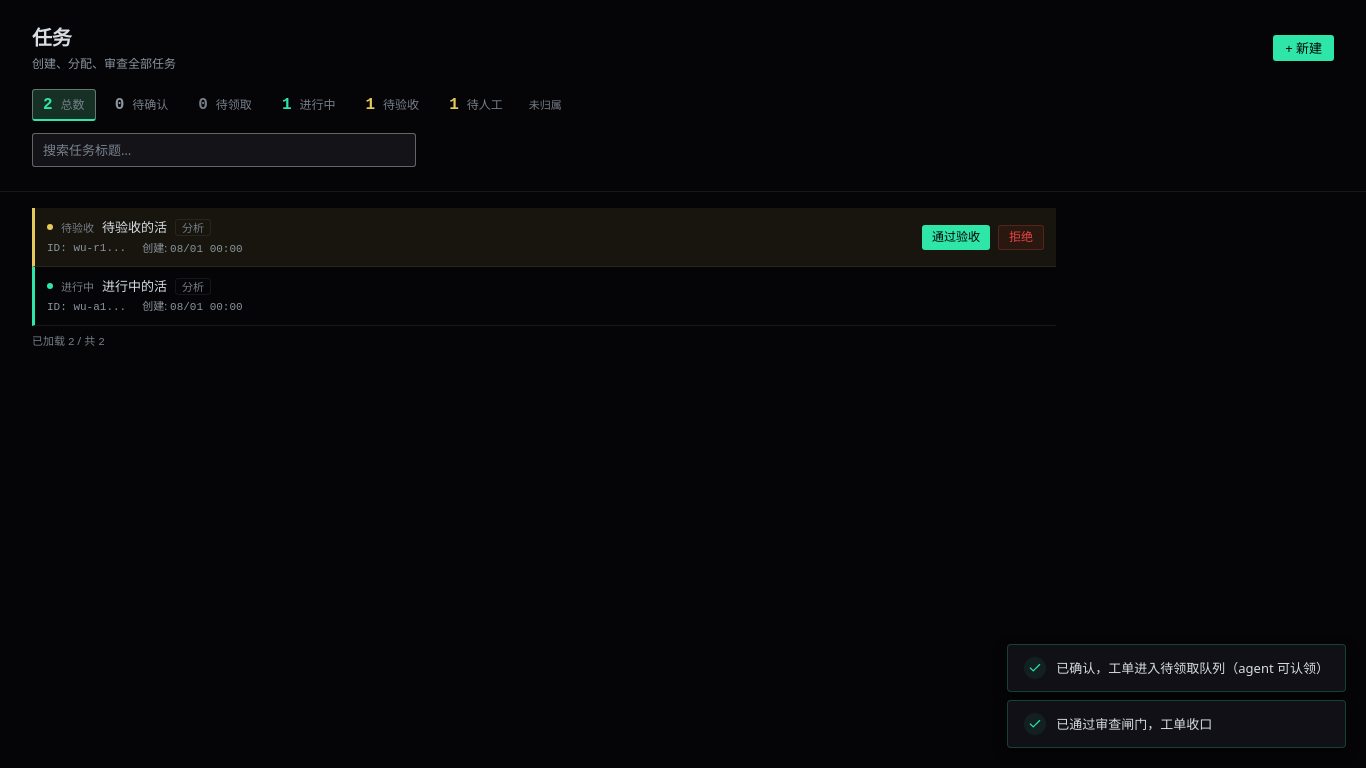
Scenario: WorkUnitListPage — 统计 chip 筛选（Step 2） › 「待人工」chip → 客户端过滤只剩 needsHuman 行；再点恢复全量
Step 1. Click the button "1 待人工" → (476, 105), box [438,89,514,121]
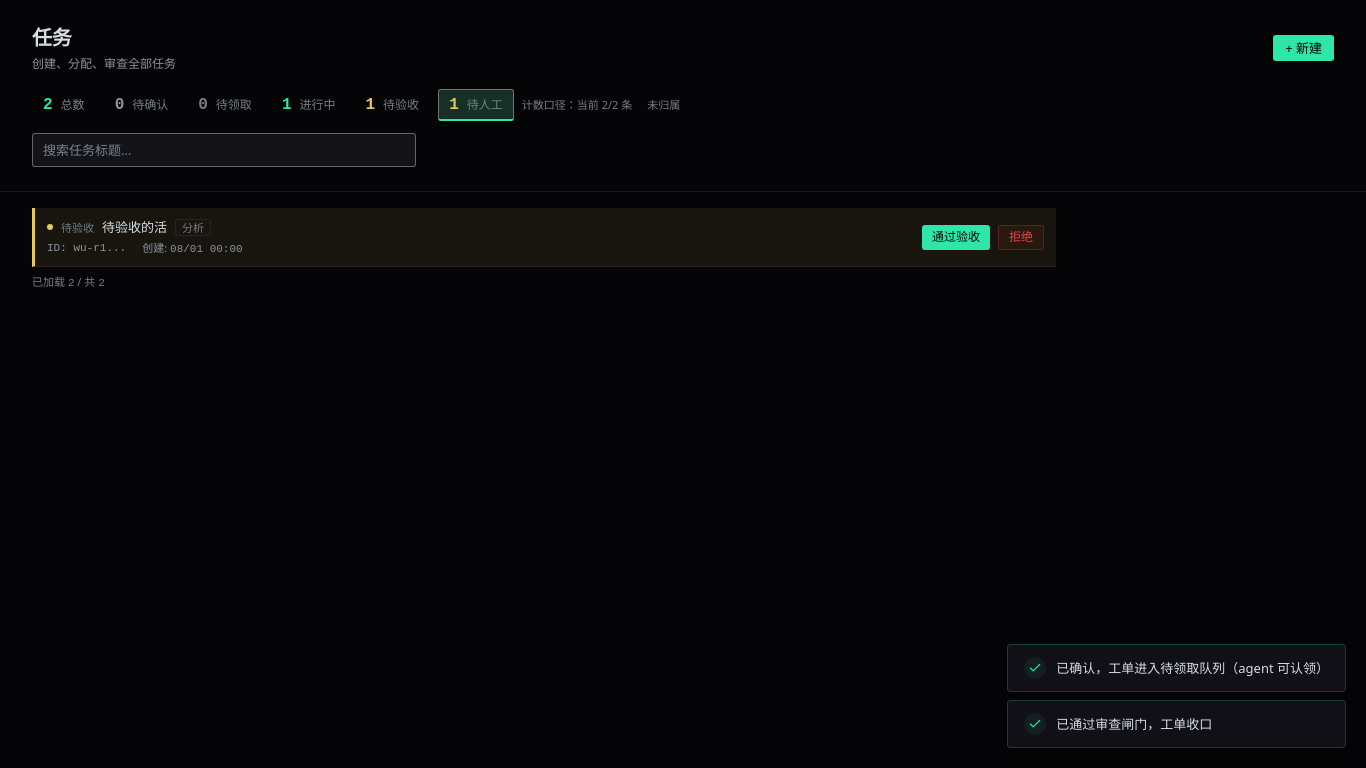
Expected: the text "待验收的活" is shown, [102,218,167,237]
Expected: the text "进行中的活" is gone
Step 2. Click the button "1 待人工" → (476, 105), box [438,89,514,121]
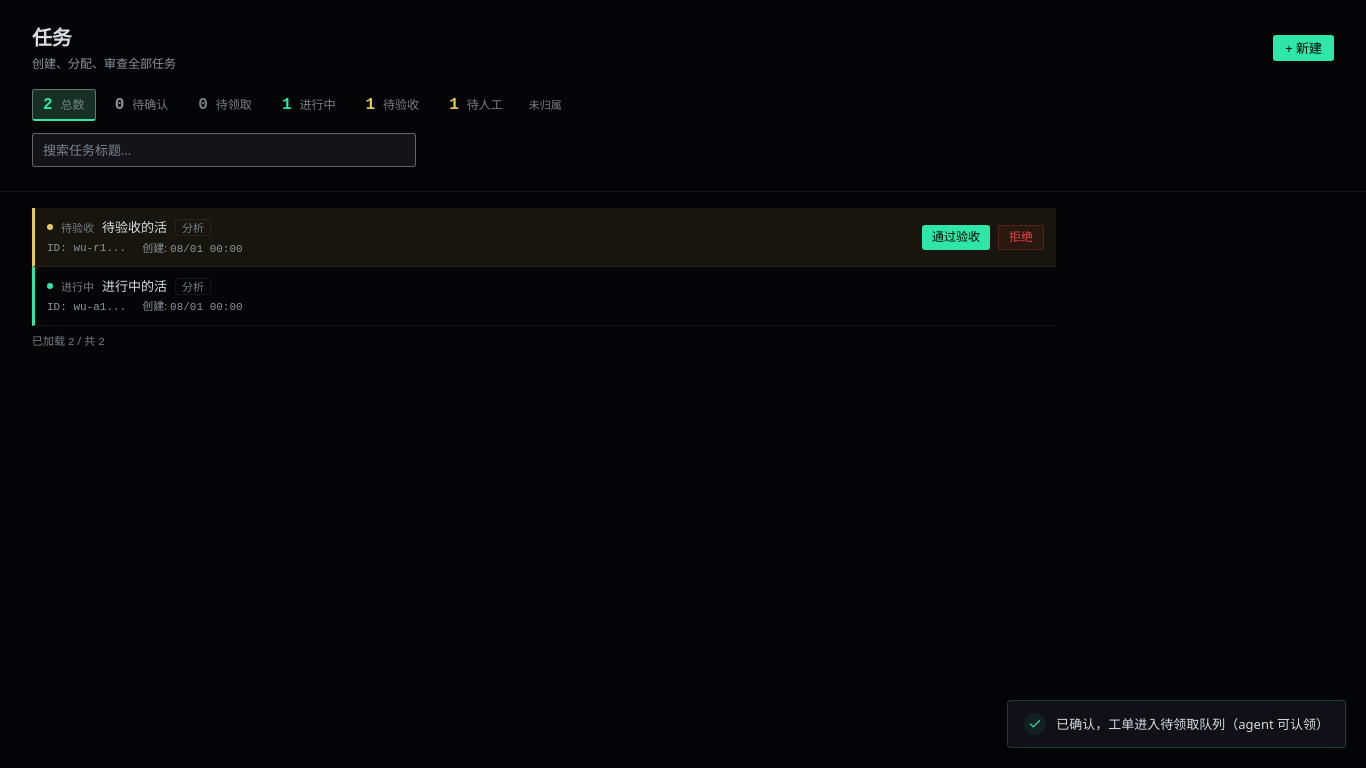
Expected: the text "进行中的活" is shown, [102,277,167,295]
